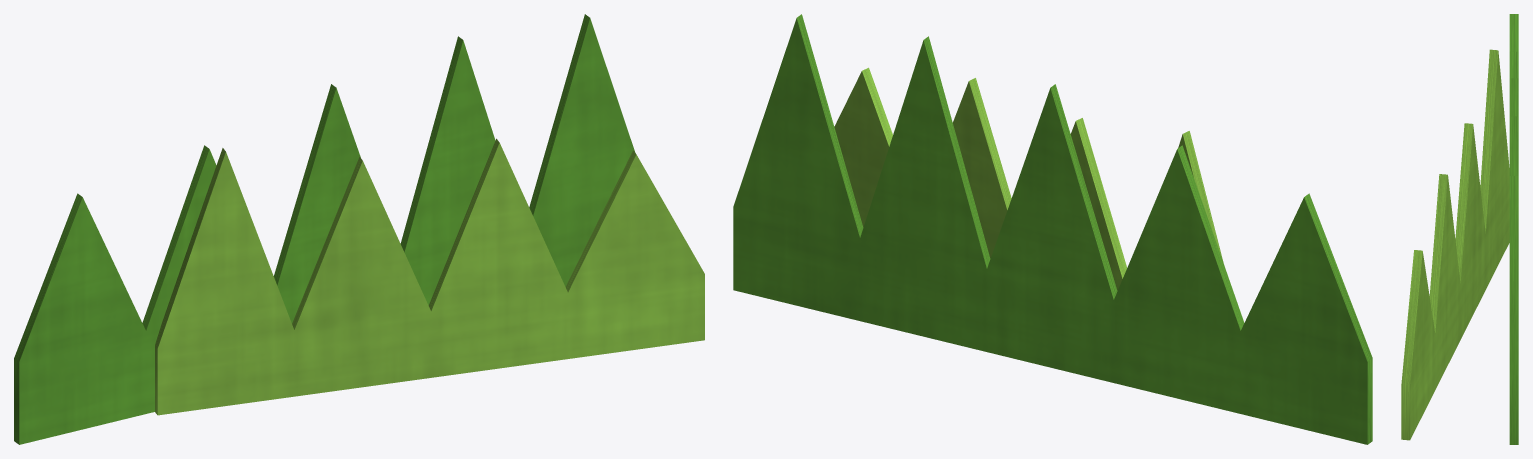
Rendered from grass_tuft_02.gltf.
3 renders of one model, left to right at view 1: azimuth 30°, elevation 25°; view 2: azimuth 150°, elevation 25°; view 3: azimuth 270°, elevation 25°, orthographic. The views are drawn at different scales.
Visible parts, largest first — view 1: grass_tuft_02; view 2: grass_tuft_02; view 3: grass_tuft_02.
Boxes of the visible parts, bbox=[...] form: grass_tuft_02: bbox=[14, 14, 704, 444]; grass_tuft_02: bbox=[733, 14, 1372, 444]; grass_tuft_02: bbox=[1401, 14, 1518, 444].
Bounding box in the file's own units: 0.7 × 0.3128 × 0.1326.
2 materials, 2 textured.
